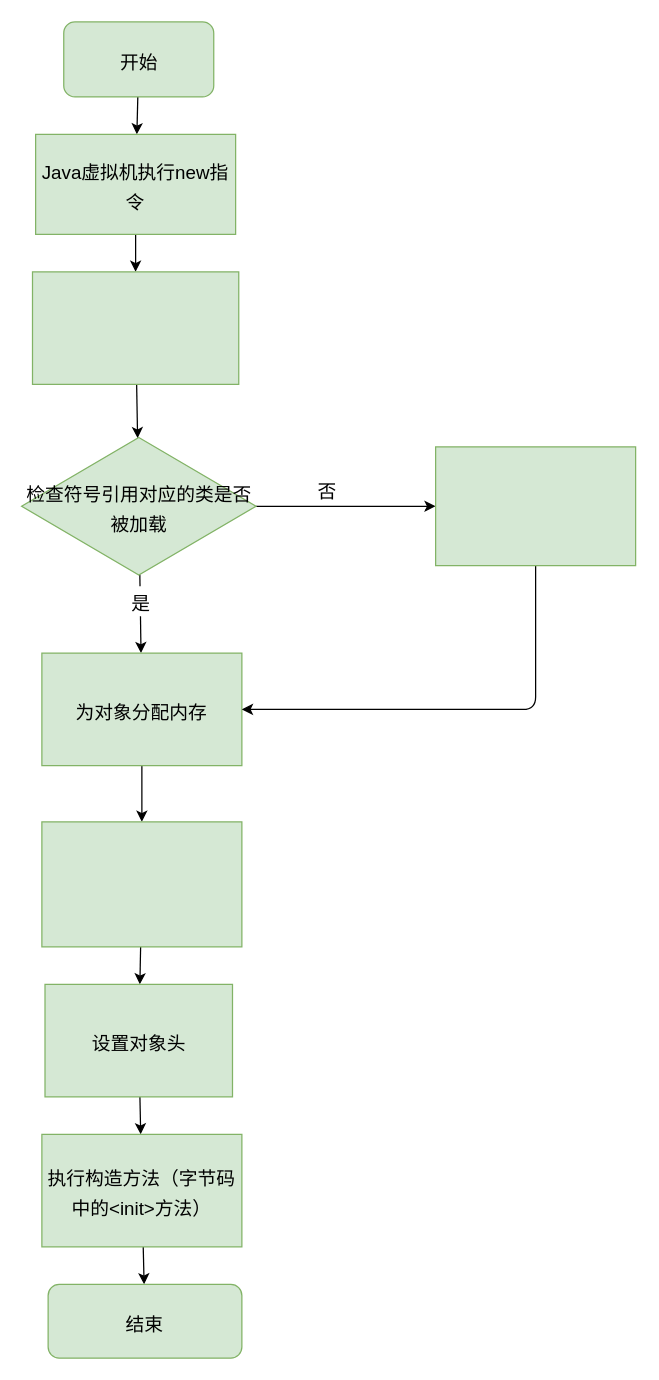
Image size: 659x1380. Some labels were removed from this diagram. The centre of each missing label's shape, as x and y in pixels:
"从运行时常量池中查找类的符号引用" belongs at [135,327].
"对象内存空间初始化为零值（不包含对象头）" belongs at [141,884].
"执行类的加载、解析和初始化" belongs at [535,506].
